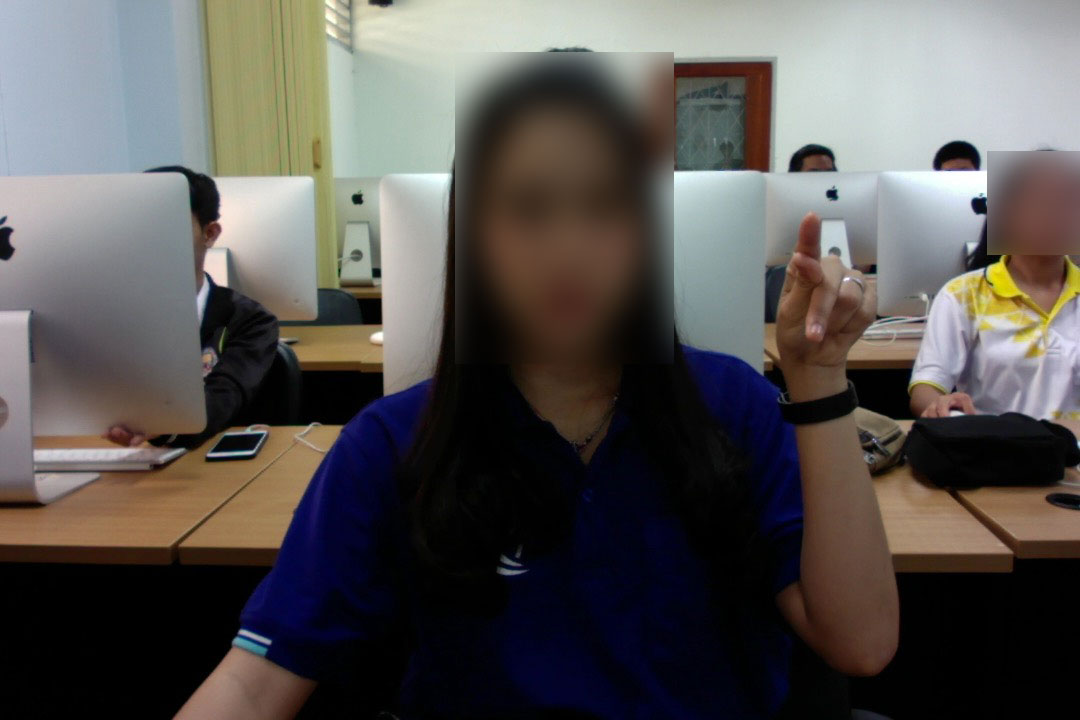por: (764, 206, 889, 378)
